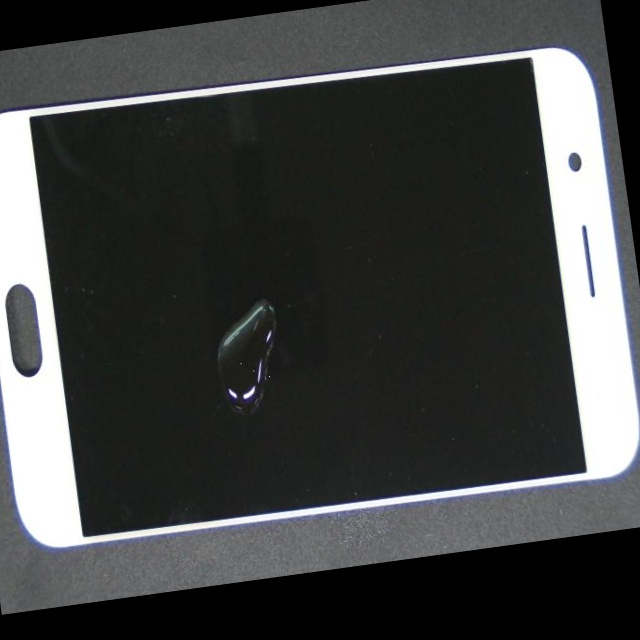oil: (64, 185, 386, 599)
